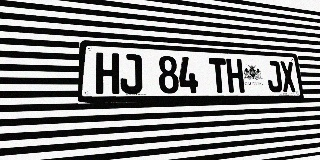4: (178, 56, 198, 93)
8: (158, 55, 179, 93)
H: (95, 52, 119, 94), (226, 58, 245, 93)
J: (120, 53, 142, 94), (265, 60, 283, 92)
T: (209, 58, 228, 93)
X: (279, 61, 296, 92)
